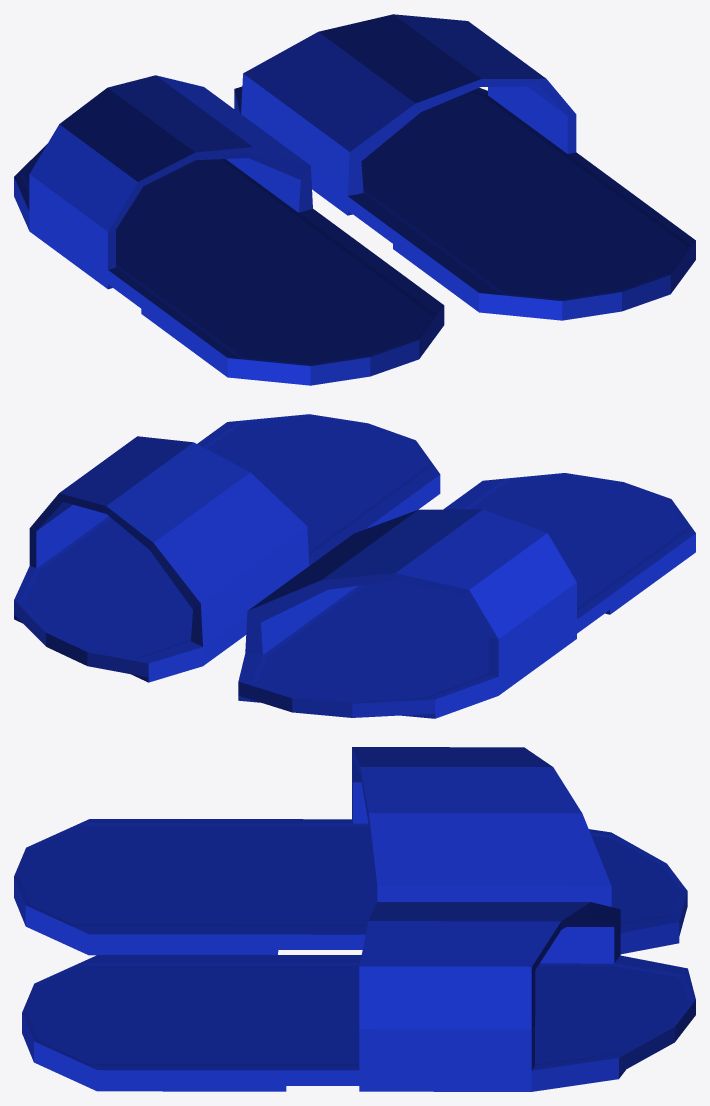
File: Slippers.fbx
3 renders of one model, top to bottom at view 1: azimuth 30°, elevation 25°; view 2: azimuth 150°, elevation 25°; view 3: azimuth 270°, elevation 25°, orthographic. The views are drawn at different scales.
Parts seen in each view (by area): view 1: Slippers; view 2: Slippers; view 3: Slippers.
Boxes of the visible parts, <box> form: Slippers: <box>14,14,695,385</box>; Slippers: <box>14,414,695,718</box>; Slippers: <box>14,747,695,1091</box>.
Size of the model in its own units: 0.5651 by 0.1117 by 0.4937.
